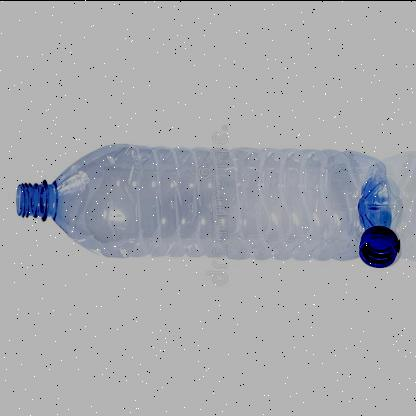Plastic Bottle: (10, 142, 404, 268)
